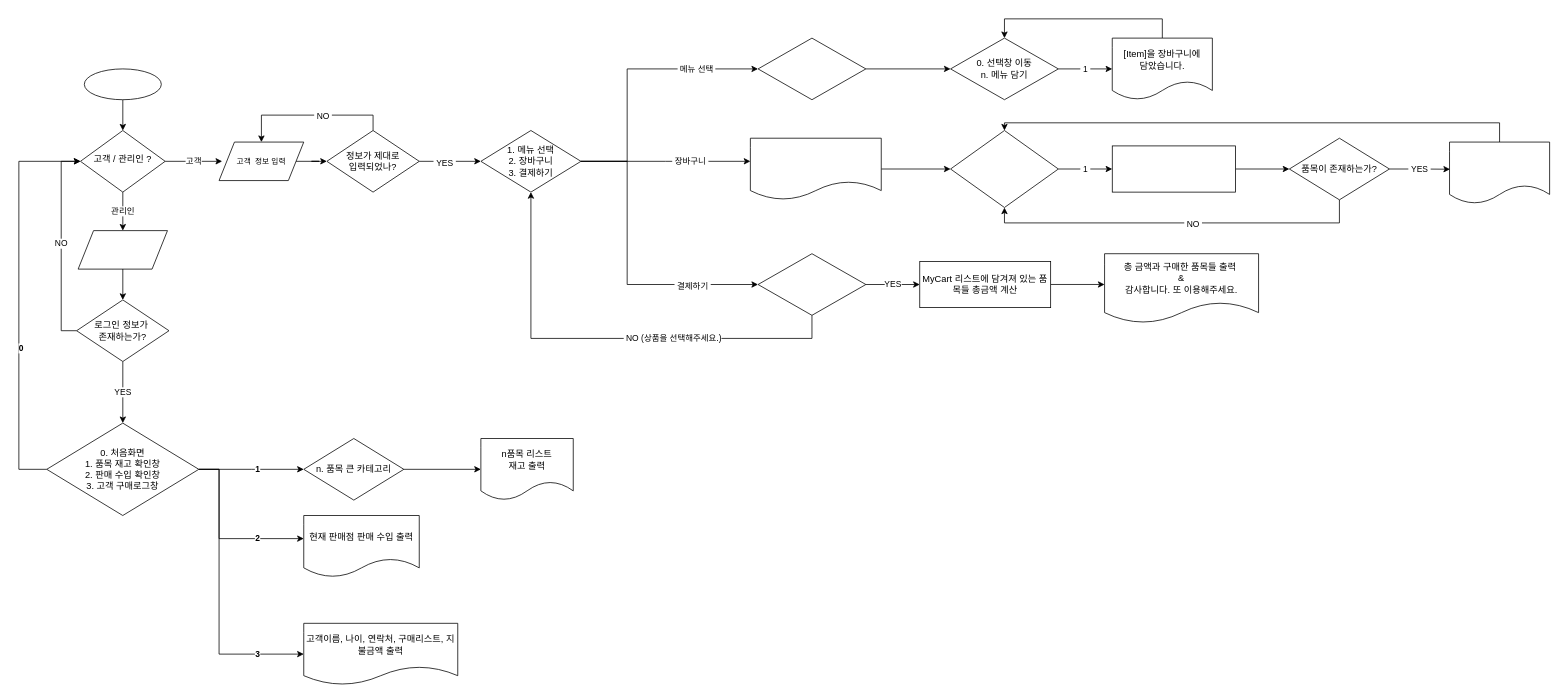
Some shapes in this 1563 by 698 pixel diagram are drawn without their labels. Here are the shapes that lost their labels. From the top down, the centre of each, then its label:
(122,84): start
(811,68): 메뉴 품목 큰 카테고리 선택창
(815,168): 장바구니에 담은 상품 & 담은 상품들의 금액 출력
(1004,169): 0. 선택창 이동 1. 품목 삭제
(1173,168): 삭제할 품목을 입력해주세요.
(1499,172): [Item]을 장바구니에서 삭제했습니다.
(122,249): 로그인
(811,284): 선택한 품목이 1개 이상인가?
